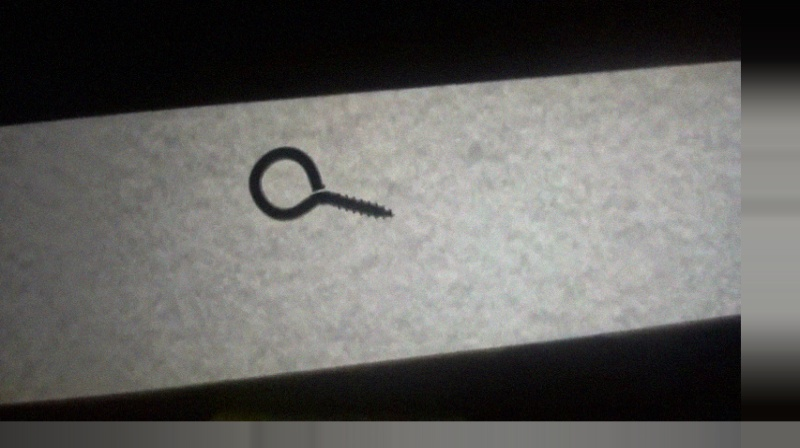O001: (245, 143, 396, 221)
